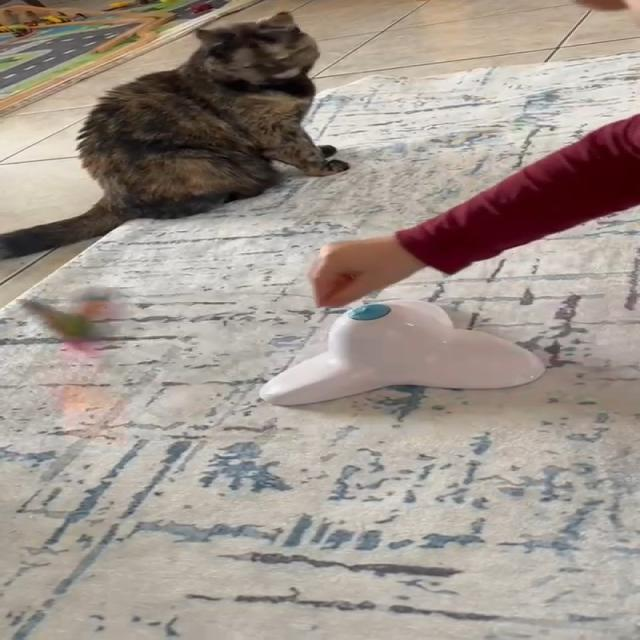authorized: (0, 9, 349, 260)
